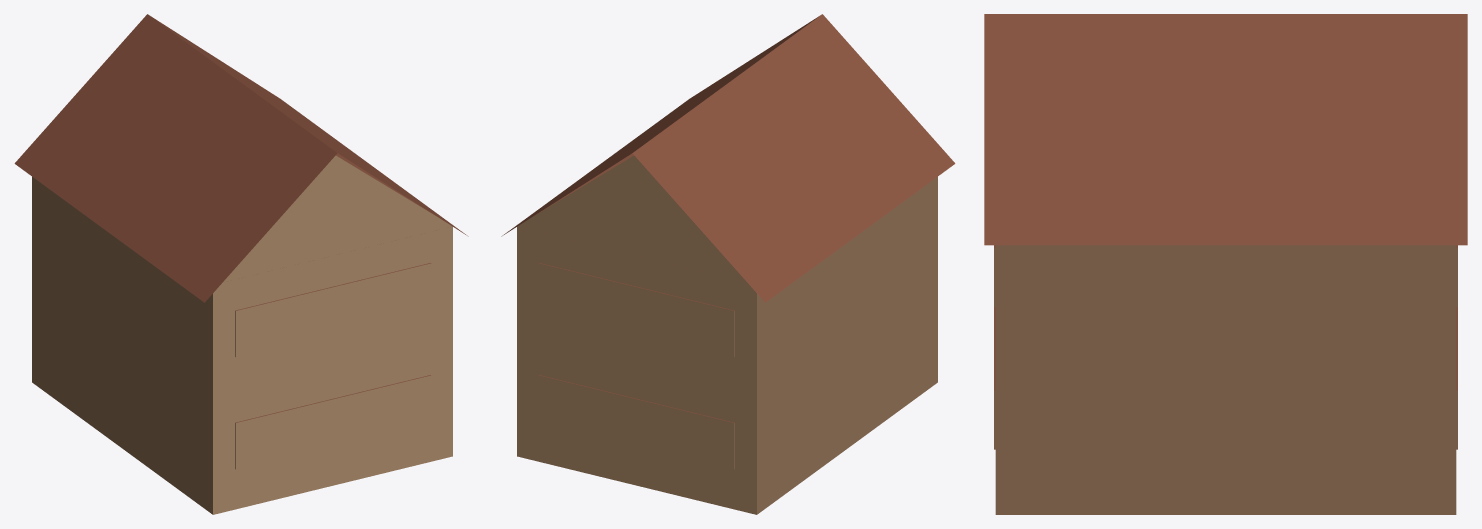
File: cove-house-orange.far-facades-v3.lod2.glb
3 renders of one model, left to right at view 1: azimuth 30°, elevation 25°; view 2: azimuth 150°, elevation 25°; view 3: azimuth 270°, elevation 25°, orthographic. The views are drawn at different scales.
Visible parts, largest first — view 1: cove-house-orange; view 2: cove-house-orange; view 3: cove-house-orange.
Part boxes in pixels (x1,y1,x2,y2): cove-house-orange: [14, 14, 468, 514]; cove-house-orange: [501, 14, 955, 514]; cove-house-orange: [984, 14, 1467, 514].
Size of the model in its own units: 7.2 by 8.69 by 8.92.
